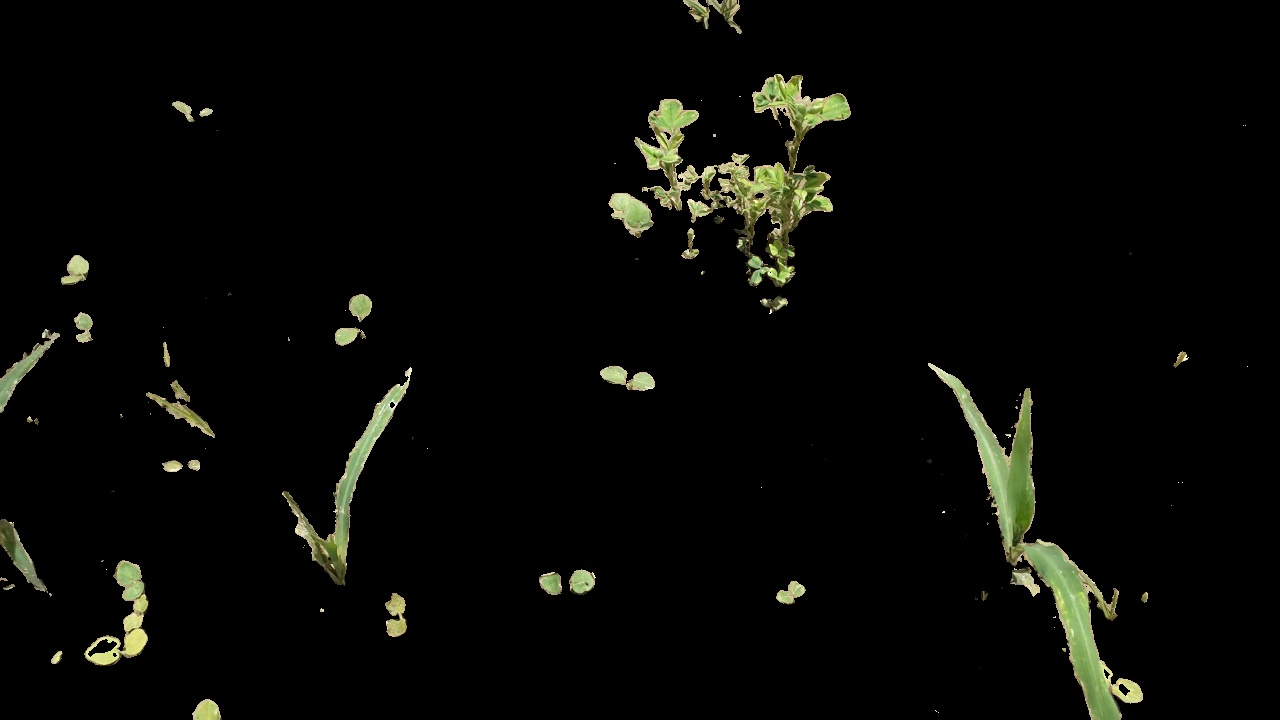crop: (928, 367, 1127, 630), (273, 370, 412, 585)
weed: (606, 76, 851, 312), (86, 556, 158, 668), (332, 282, 376, 346), (540, 565, 602, 601), (600, 366, 659, 394), (56, 247, 94, 289), (381, 591, 413, 640), (168, 93, 218, 124), (775, 571, 810, 606), (73, 305, 96, 348), (1118, 677, 1148, 704), (194, 698, 221, 720)
